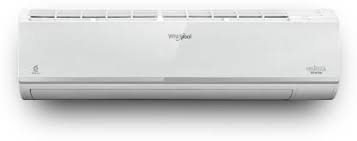ac: (12, 2, 355, 107)
